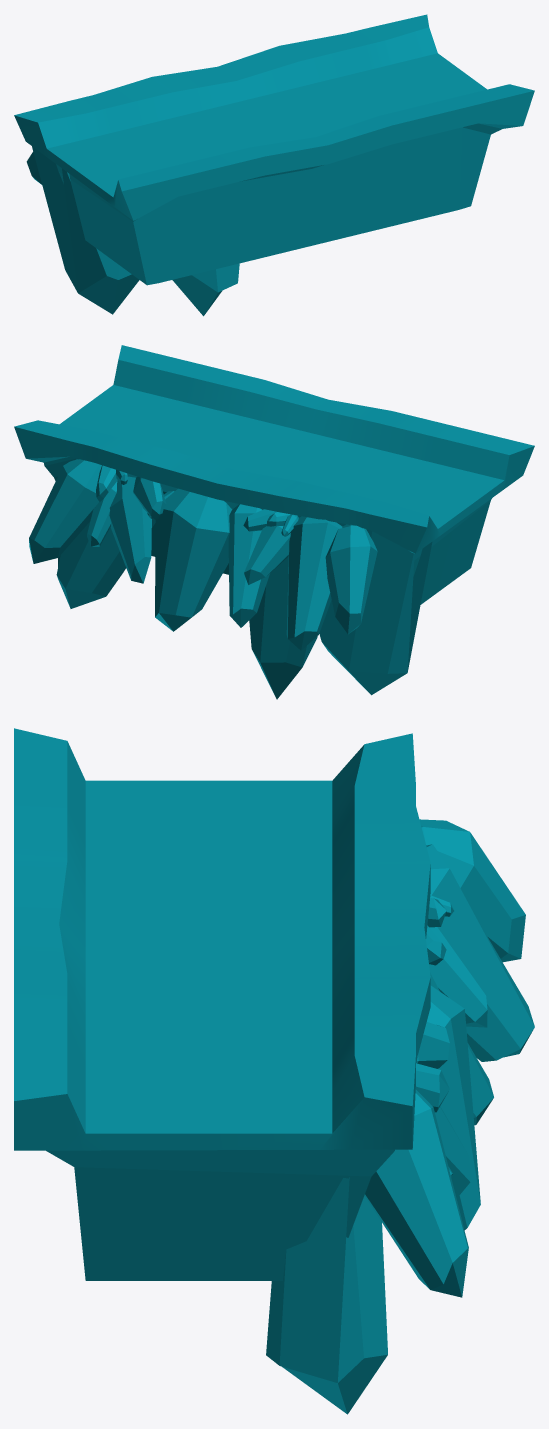
Rendered from Floating_Platform_Med_2.fbx.
The picture shows the model from 3 angles, top to bottom: view 1: azimuth 30°, elevation 25°; view 2: azimuth 150°, elevation 25°; view 3: azimuth 270°, elevation 25°; orthographic projection. The views are drawn at different scales.
Parts seen in each view (by area): view 1: Floating_Med_Modul_Comb; view 2: Floating_Med_Modul_Comb; view 3: Floating_Med_Modul_Comb.
Part boxes in pixels (bbox=[...]): Floating_Med_Modul_Comb: bbox=[14, 14, 534, 316]; Floating_Med_Modul_Comb: bbox=[14, 345, 534, 699]; Floating_Med_Modul_Comb: bbox=[14, 728, 534, 1414].
Bounding box in the file's own units: 3.05 × 1.63 × 1.8.
